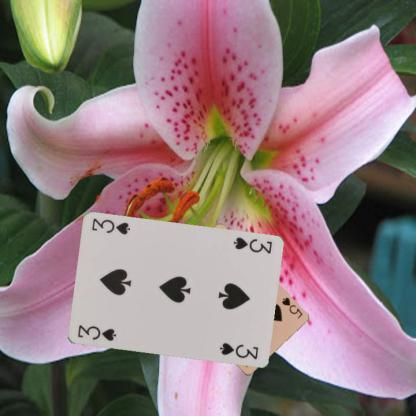3s: (230, 235, 273, 256), (75, 322, 118, 342)
5s: (279, 295, 304, 320)
